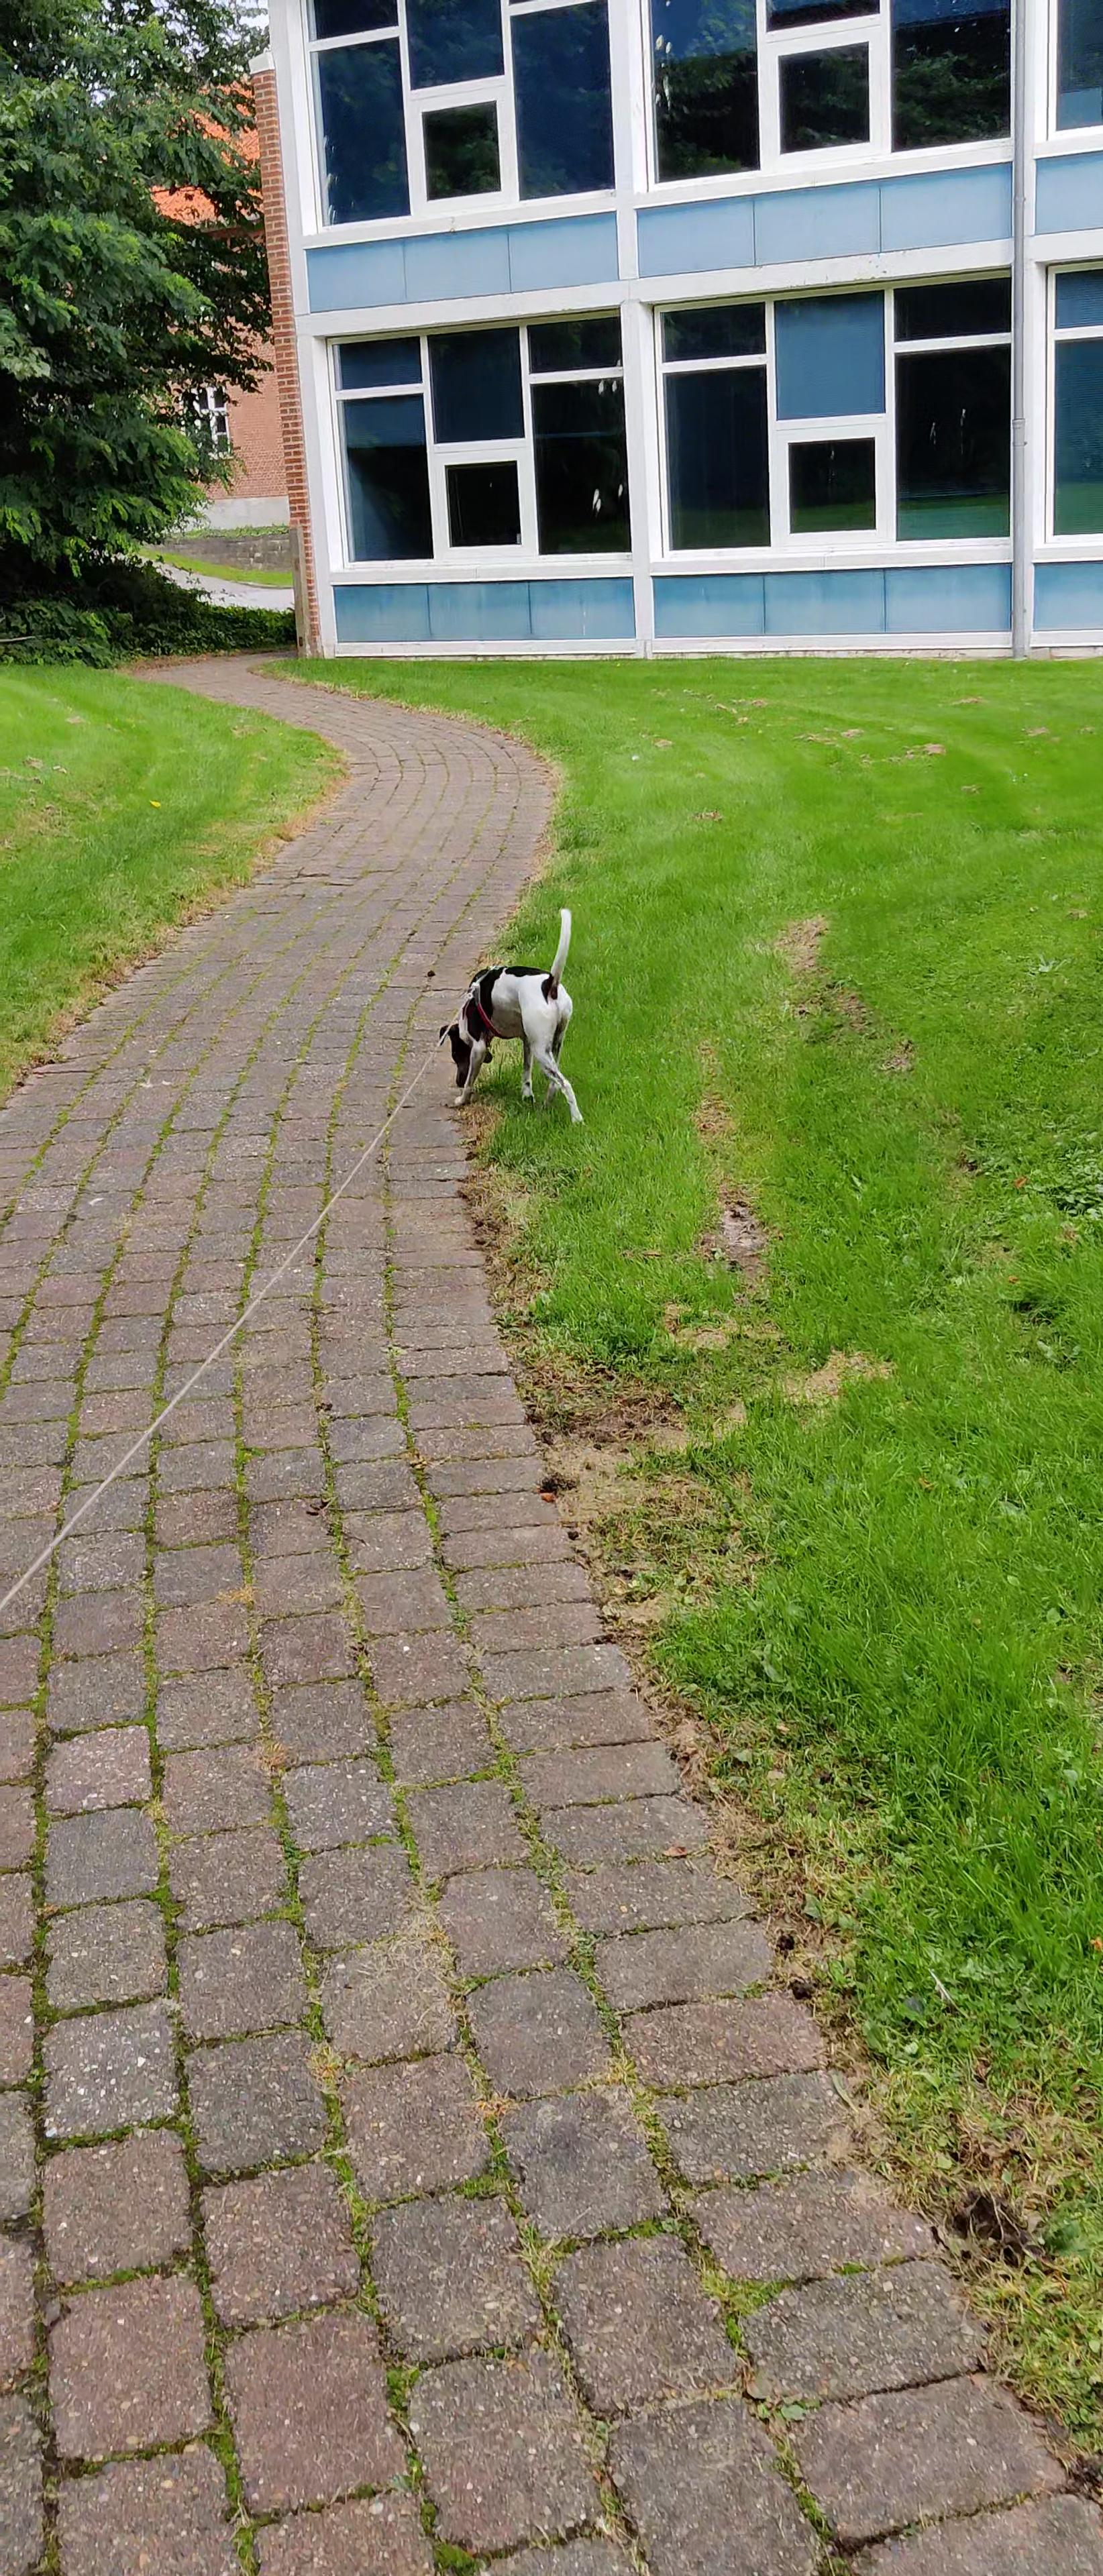Dog: (434, 907, 598, 1129)
